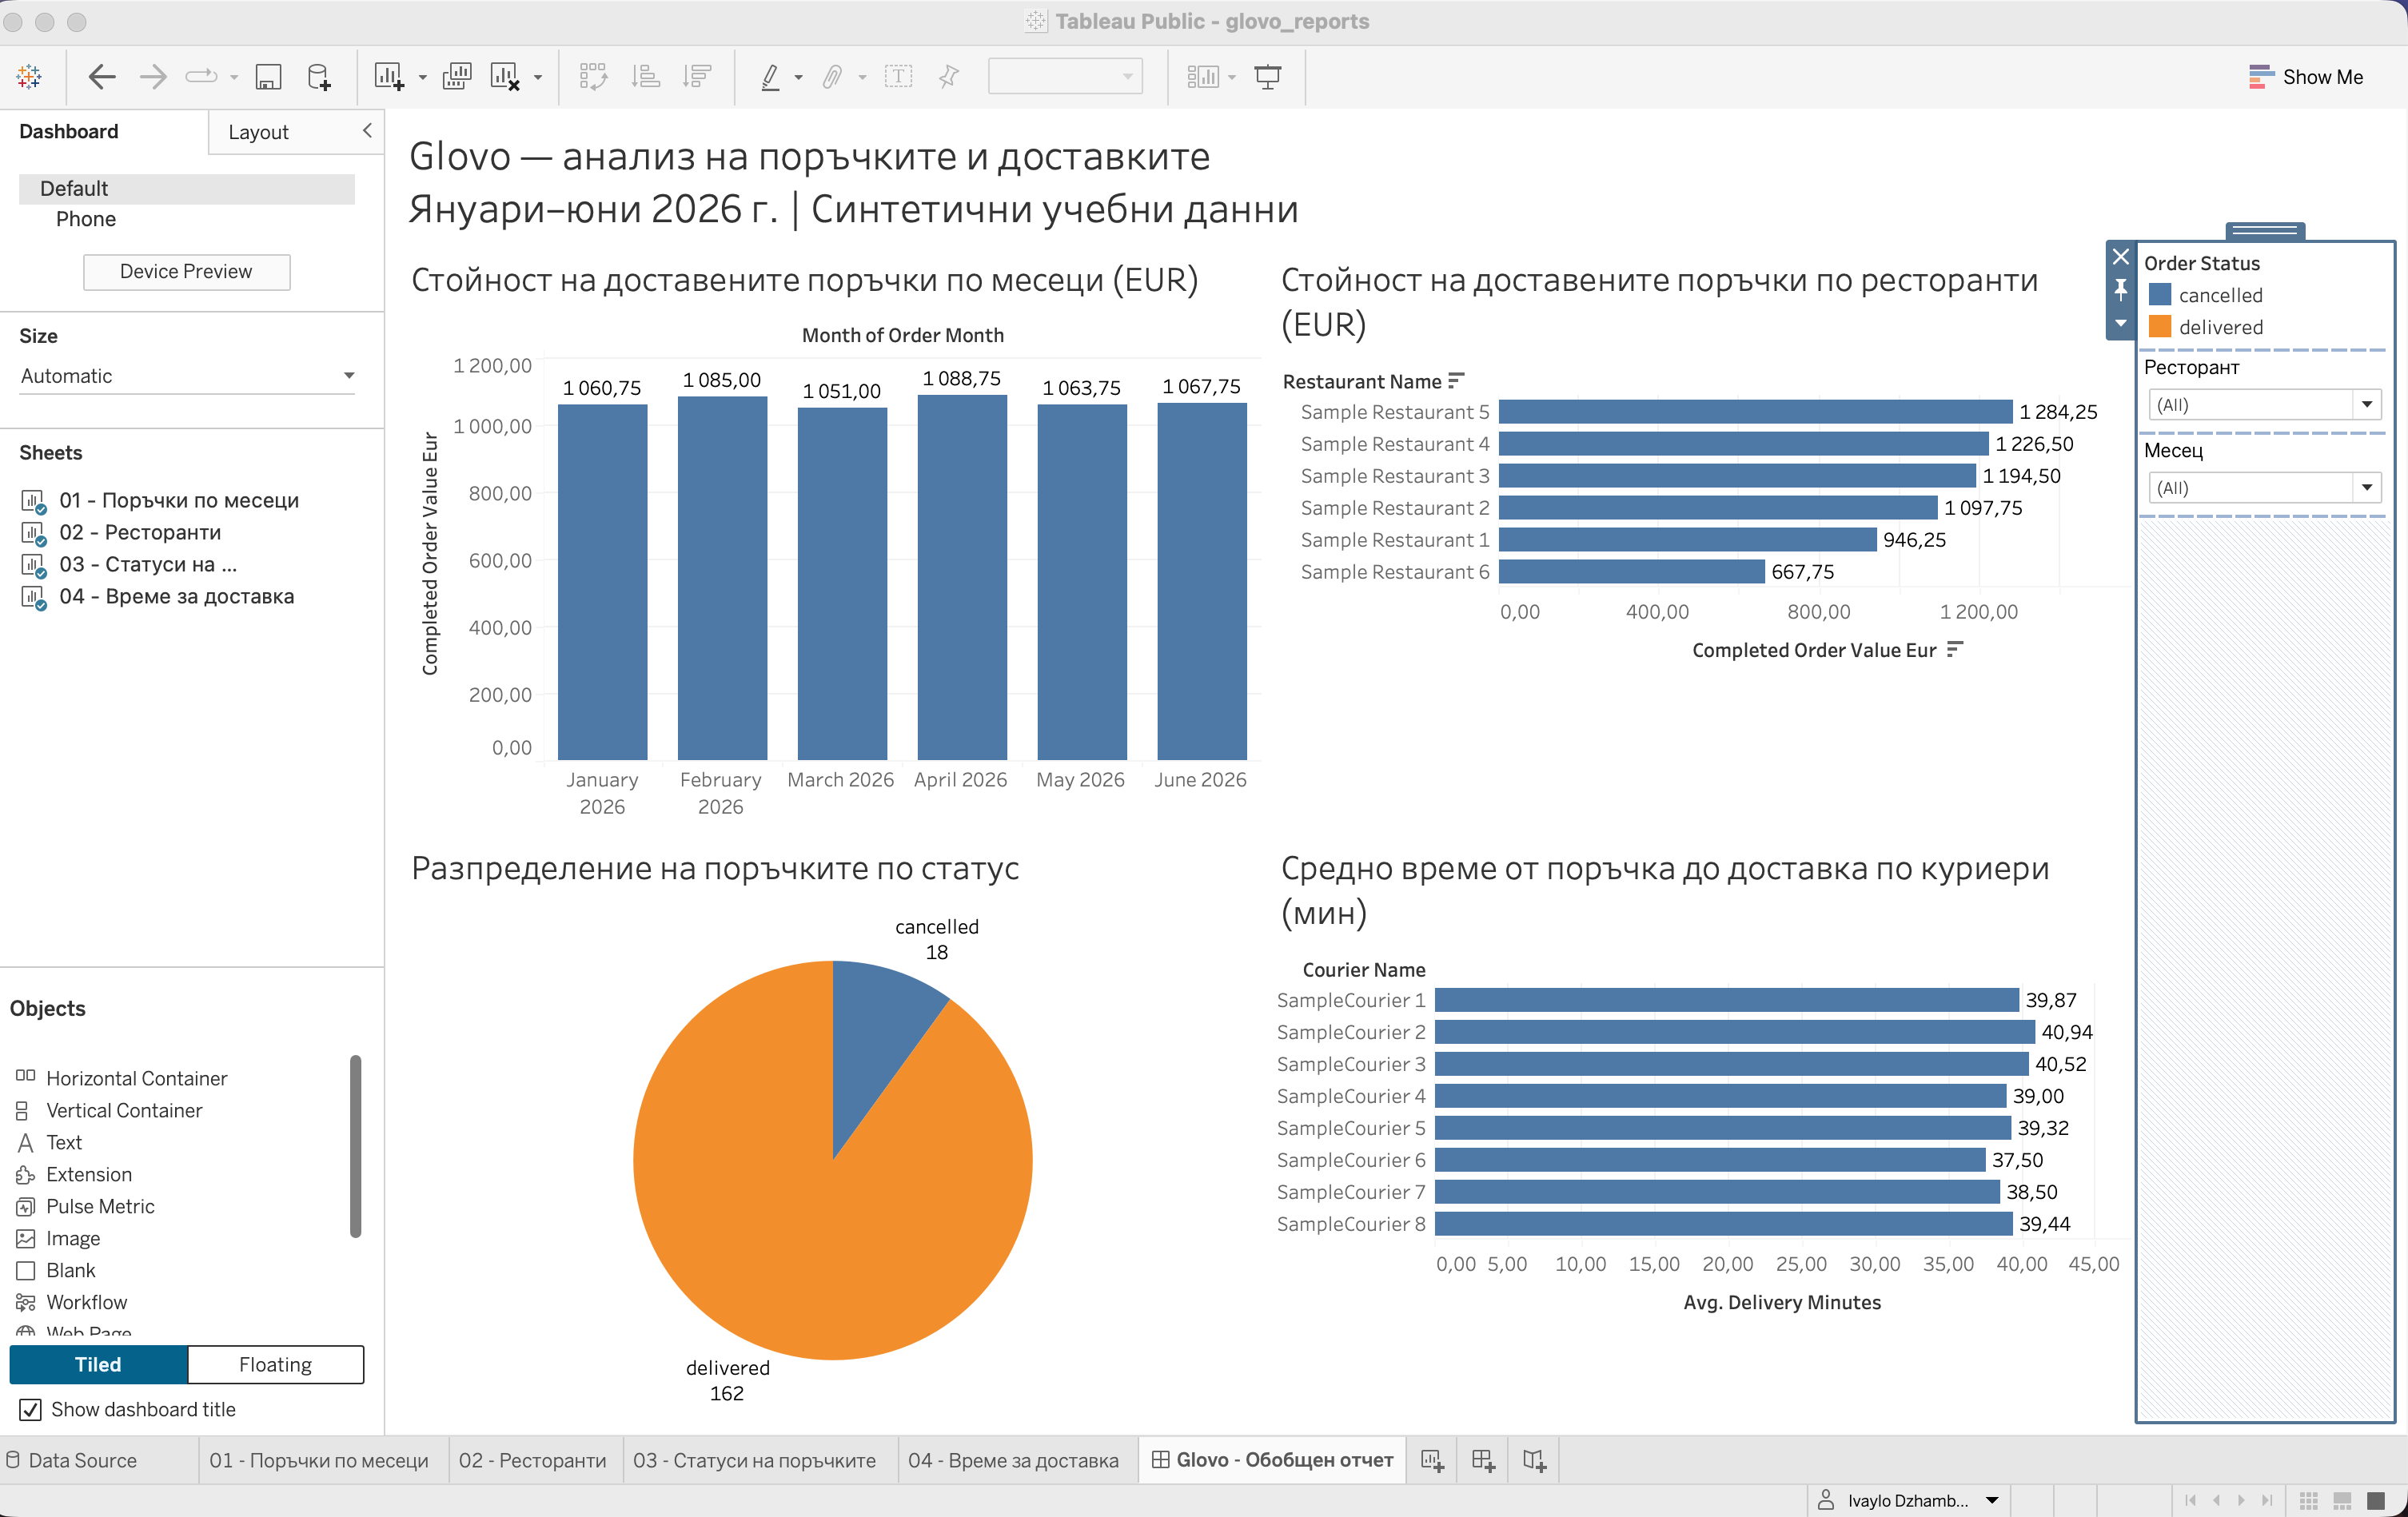

This screenshot's page, from the dashboard's own definition file:
{"tool":"tableau","page":{"name":"Glovo - Обобщен отчет","canvas":[1000,1000],"units":"permille","ordinal":0},"visuals":[{"type":"title","box":[6.3,9.7,987.3,91.7]},{"type":"worksheet","title":"01 - Поръчки по месеци","mark":"Bar","rows":["completed_order_value_eur"],"cols":["order_month"],"box":[6.3,101.3,430.4,444.5]},{"type":"worksheet","title":"02 - Ресторанти","mark":"Bar","rows":["restaurant_name"],"cols":["completed_order_value_eur"],"box":[436.7,101.3,430.4,444.5]},{"type":"legend","title":"03 - Статуси на поръчките","param":"[federated.1gw0zeu1d8ta7810rz4xq0u9awfl].[none:order_status:nk]","box":[867.1,101.3,126.6,79.6]},{"type":"filter","title":"01 - Поръчки по месеци","param":"[federated.1gw0zeu1d8ta7810rz4xq0u9awfl].[none:restaurant_name:nk]","box":[867.1,180.9,126.6,62.7]},{"type":"filter","title":"01 - Поръчки по месеци","param":"[federated.1gw0zeu1d8ta7810rz4xq0u9awfl].[none:order_month_name:nk]","box":[867.1,243.7,126.6,62.7]},{"type":"worksheet","title":"03 - Статуси на поръчките","mark":"Pie","box":[6.3,545.8,430.4,444.5]},{"type":"worksheet","title":"04 - Време за доставка","mark":"Bar","rows":["courier_name"],"cols":["delivery_minutes"],"box":[436.7,545.8,430.4,444.5]}]}

Visuals, with their boxes on the dashboard's canvas, which has no fixed pixel size, in thousandths of its width and height (x1, y1, x2, y2). These are canvas units, not pixel positions in the 2408x1517 screenshot, which may show the page scaled, cropped or inside an application window:
title: box=[6, 10, 994, 101]
"01 - Поръчки по месеци" worksheet (Bar marks): box=[6, 101, 437, 546]
"02 - Ресторанти" worksheet (Bar marks): box=[437, 101, 867, 546]
"03 - Статуси на поръчките" legend: box=[867, 101, 994, 181]
"01 - Поръчки по месеци" filter: box=[867, 181, 994, 244]
"01 - Поръчки по месеци" filter: box=[867, 244, 994, 306]
"03 - Статуси на поръчките" worksheet (Pie marks): box=[6, 546, 437, 990]
"04 - Време за доставка" worksheet (Bar marks): box=[437, 546, 867, 990]
